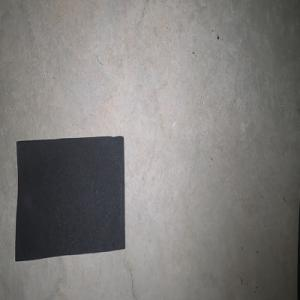PaintChip: (15, 135, 125, 261)
